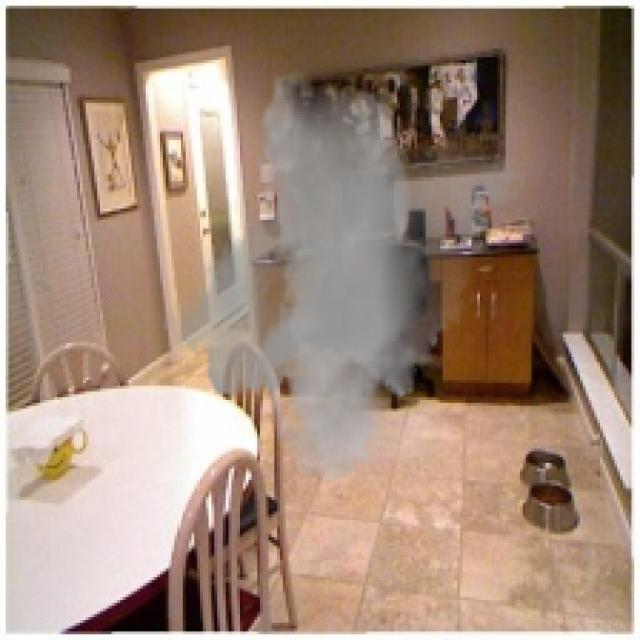smoke: (160, 68, 529, 483)
